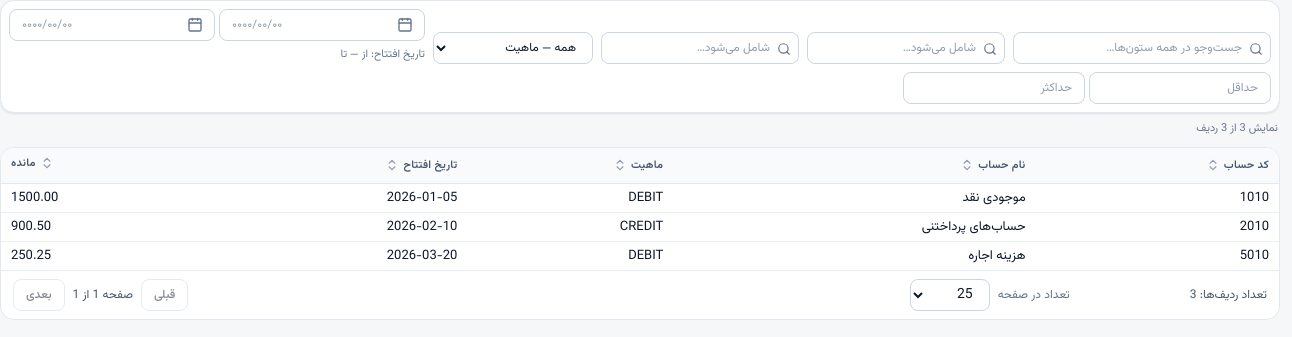
DataTable client mode — global search › searches the Persian label of a select column, not only its code
The image size is (1292, 337).
Type "بستانکار" into the search field named "جست‌وجوی سراسری" at (1142,48), box [1013,32,1271,64]
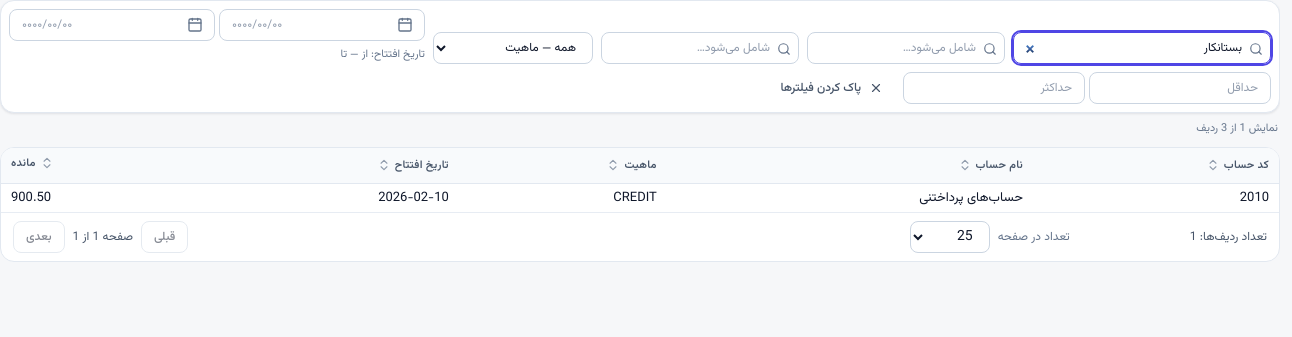
Expected: the text "حساب‌های پرداختنی" is shown, [667,184,1033,212]
Expected: the text "موجودی نقد" is gone
